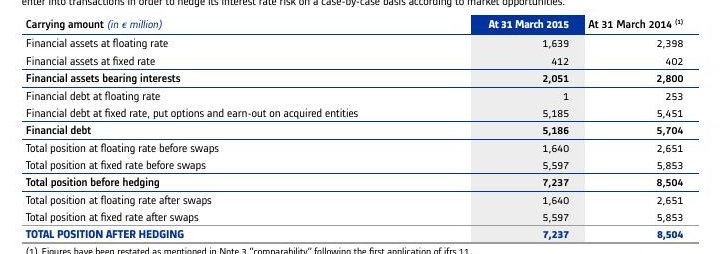table: (0, 0, 722, 254)
